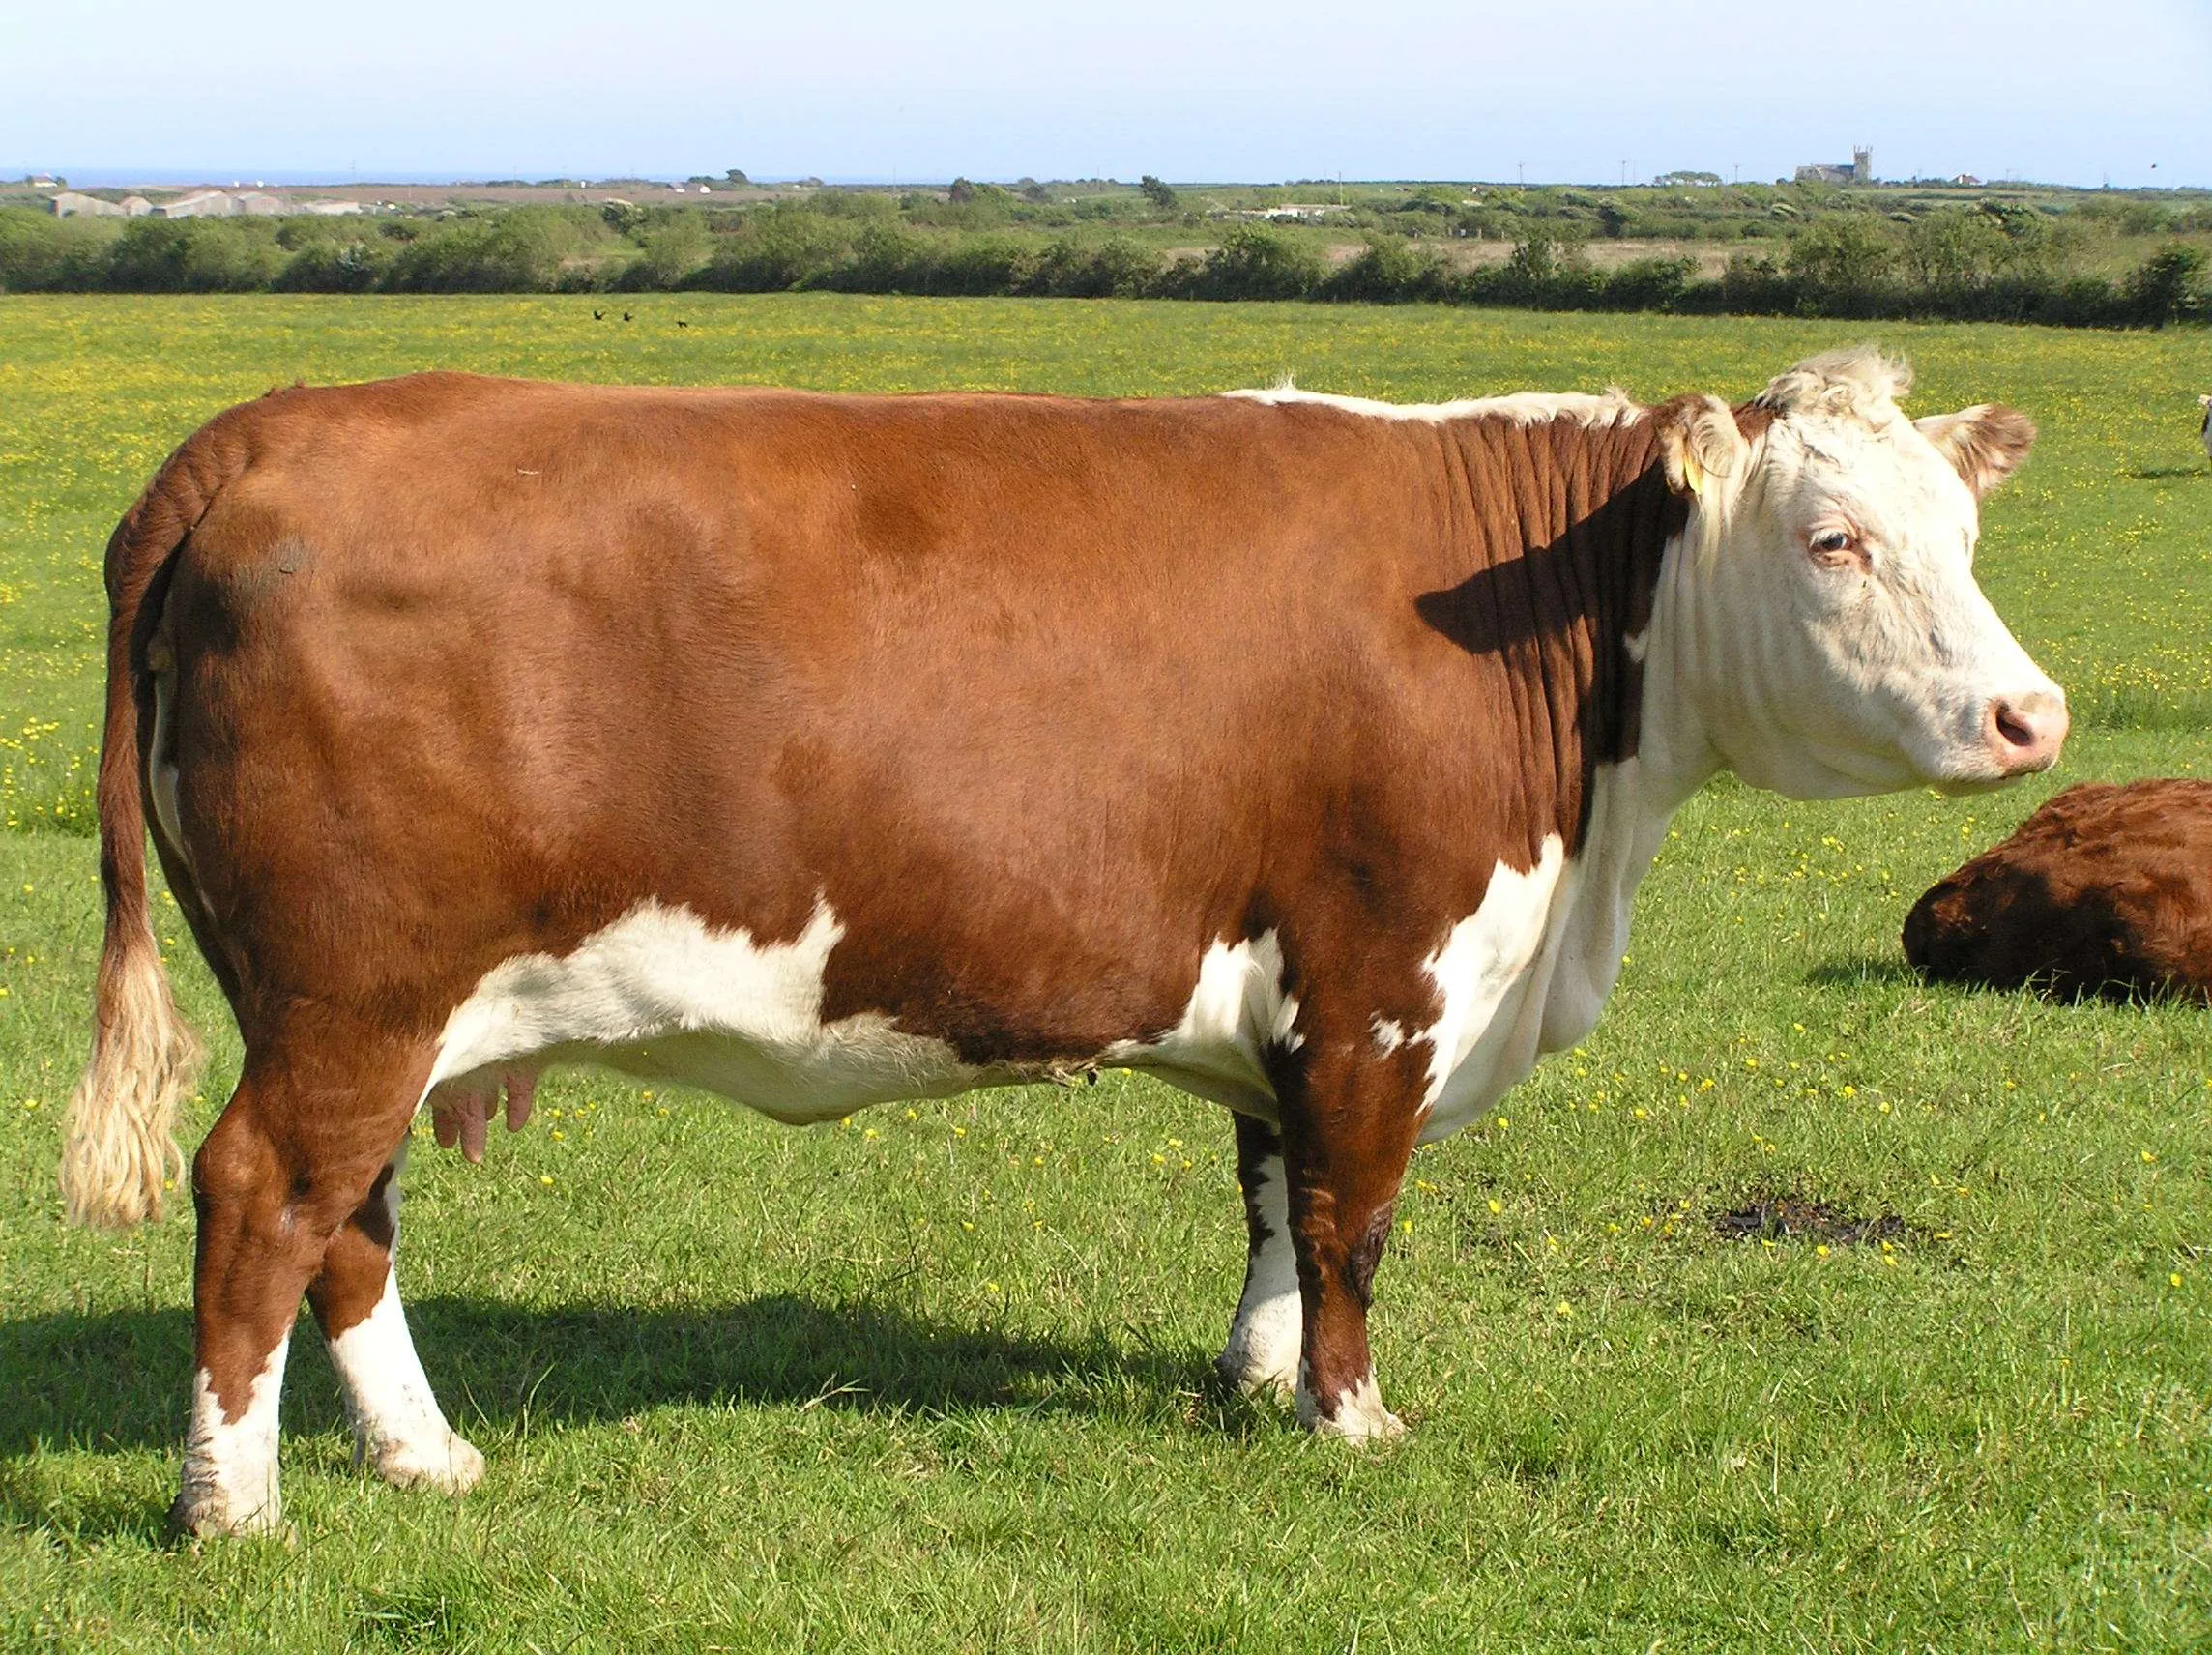cow: (82, 334, 2090, 1452)
